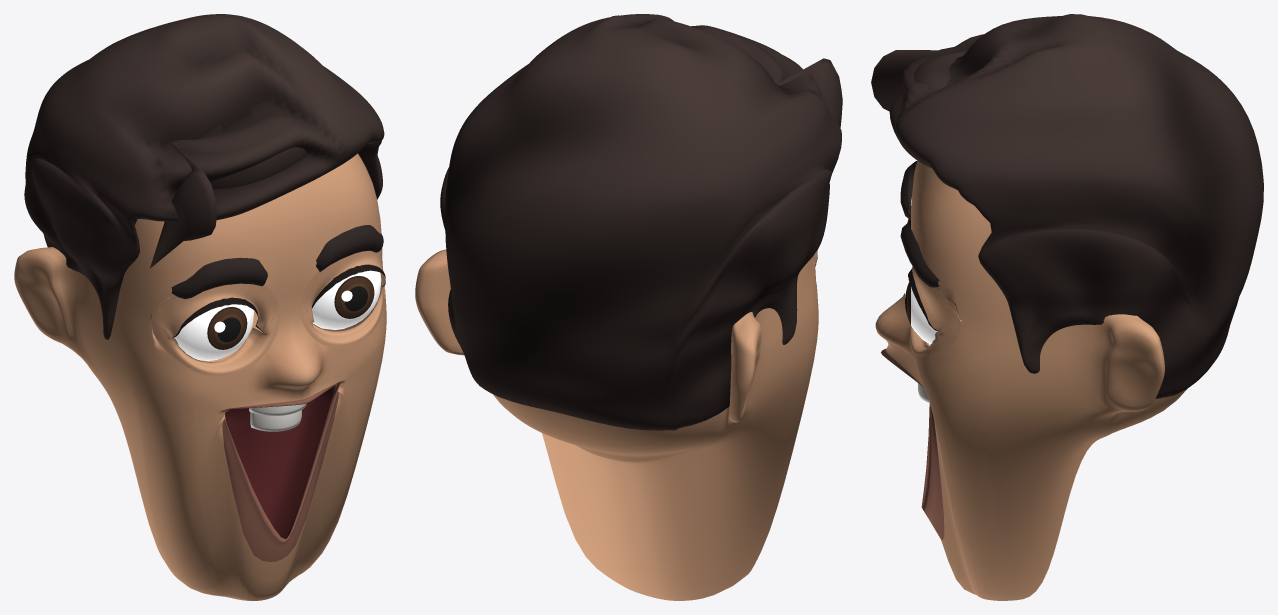
The model's file is avatar-hombre.glb.
3 renders of one model, left to right at view 1: azimuth 30°, elevation 25°; view 2: azimuth 150°, elevation 25°; view 3: azimuth 270°, elevation 25°, orthographic. The views are drawn at different scales.
Parts seen in each view (by area): view 1: Head, Hair, Lids, Brows, Eye_R, Eye_L, Mouth; view 2: Hair, Head; view 3: Hair, Head, Lids, Brows, Eye_L.
Part boxes in pixels (x1,y1,x2,y2): Head: (14, 153, 386, 600); Hair: (24, 14, 384, 339); Lids: (151, 249, 385, 377); Brows: (171, 225, 383, 299); Eye_R: (168, 298, 254, 360); Eye_L: (312, 270, 381, 329); Mouth: (249, 403, 306, 431); Hair: (440, 14, 842, 430); Head: (415, 249, 818, 600); Hair: (871, 14, 1263, 398); Head: (875, 161, 1186, 600); Lids: (908, 206, 959, 358); Brows: (900, 161, 939, 287); Eye_L: (905, 282, 937, 344).
Bounding box in the file's own units: 1.74 × 2.85 × 1.83.
